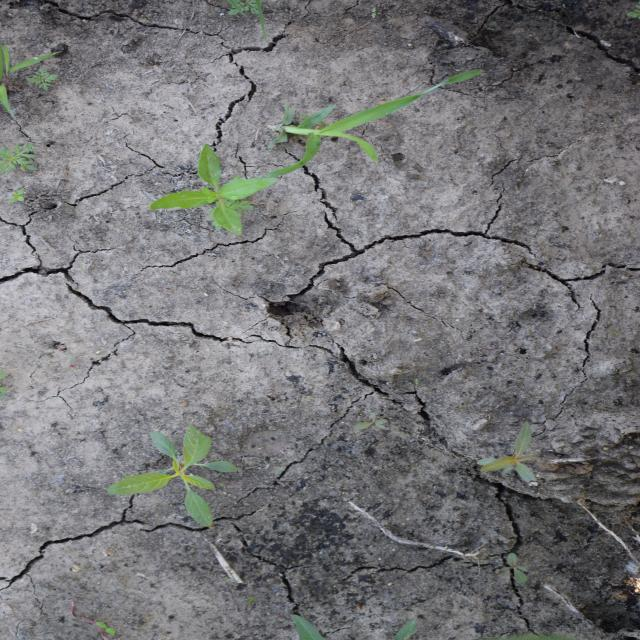Eclipta: (148, 143, 282, 236)
Goosegrass: (262, 68, 484, 179)
Ragweed: (3, 143, 40, 175), (24, 67, 59, 91)
Waterhemp: (104, 424, 242, 528), (474, 420, 544, 484)
